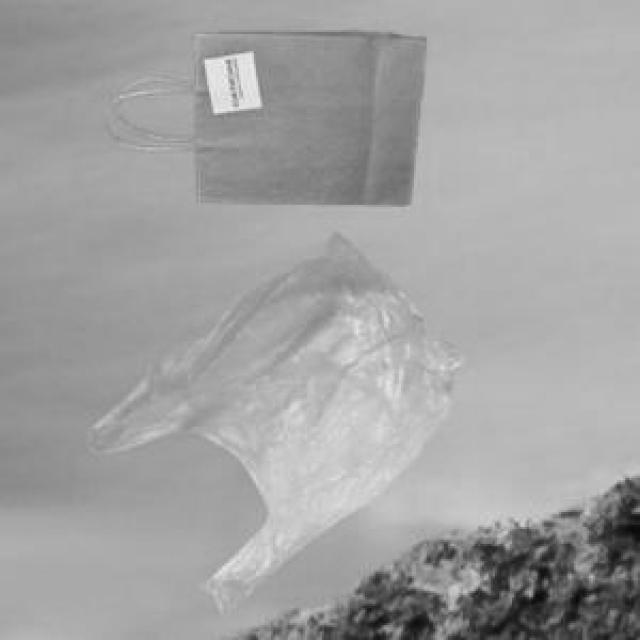paper: (124, 28, 422, 201)
